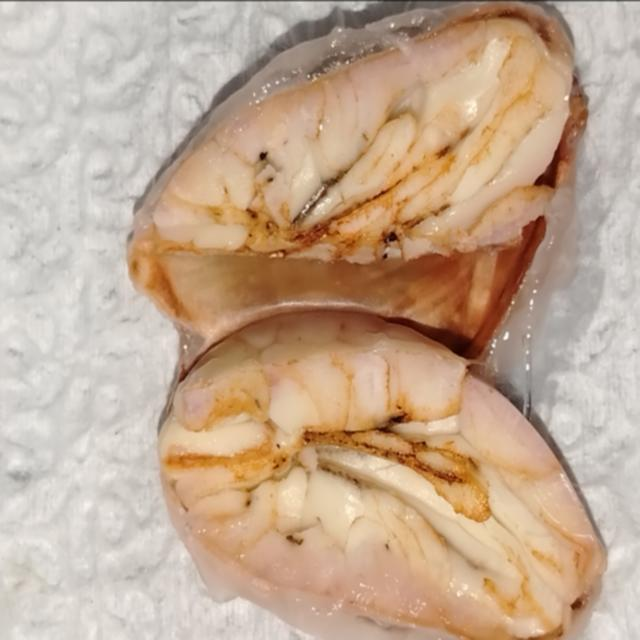Trinitario: (150, 358, 600, 620)
